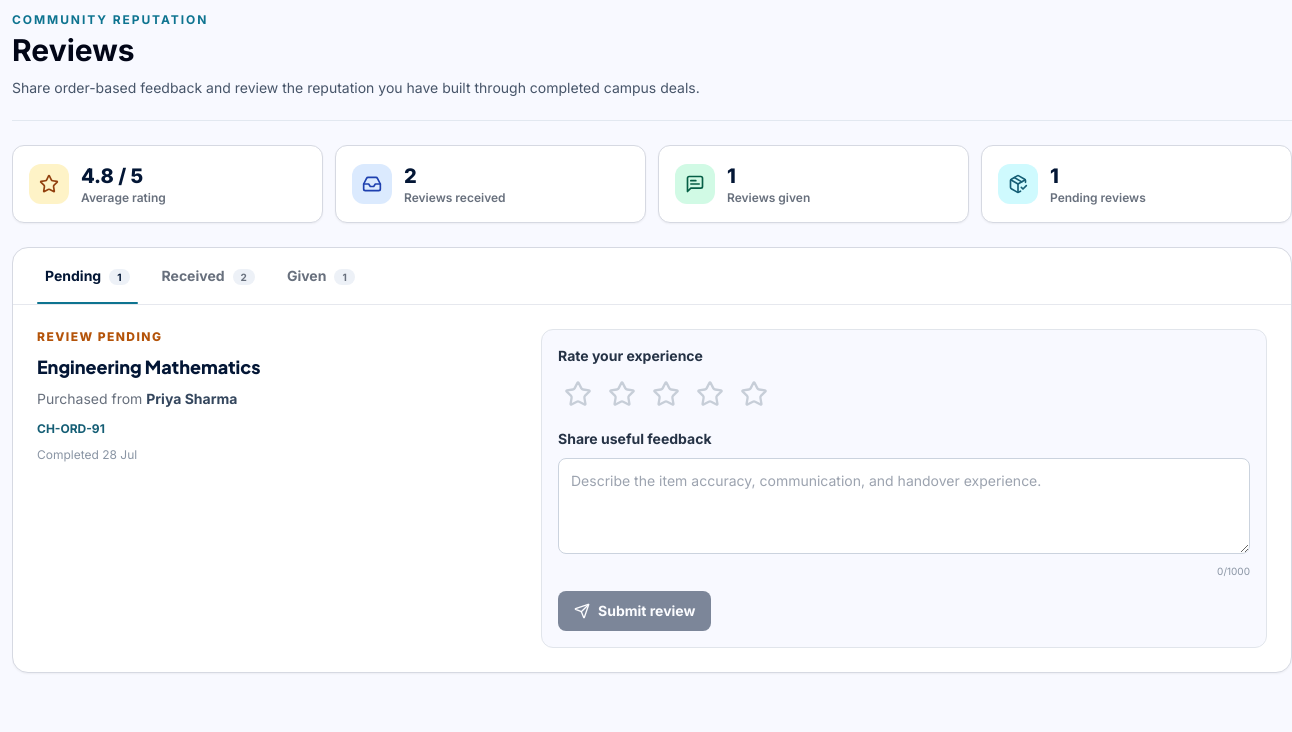
Test: ReviewsPage › submits feedback only for a completed order and refreshes the workspace
Expected: the heading "Reviews" is shown, [12, 32, 135, 68]
Expected: the link "Engineering Mathematics" is shown, [37, 355, 260, 378]
Click the button named "5 stars". click: coordinates (754, 394)
box: [734, 374, 774, 414]
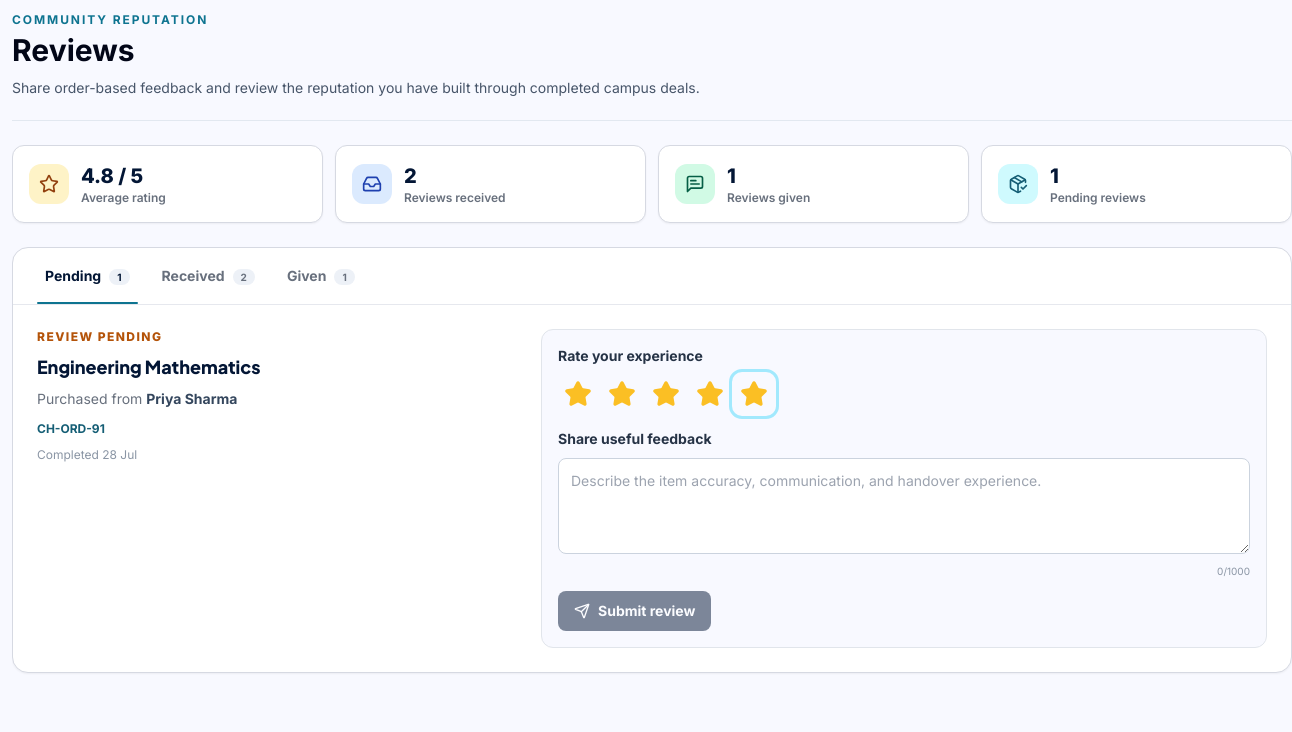
Type "The description was accurate and pickup was easy." into the text box with placeholder "item accuracy". click: coordinates (904, 506)
box: [558, 458, 1250, 554]
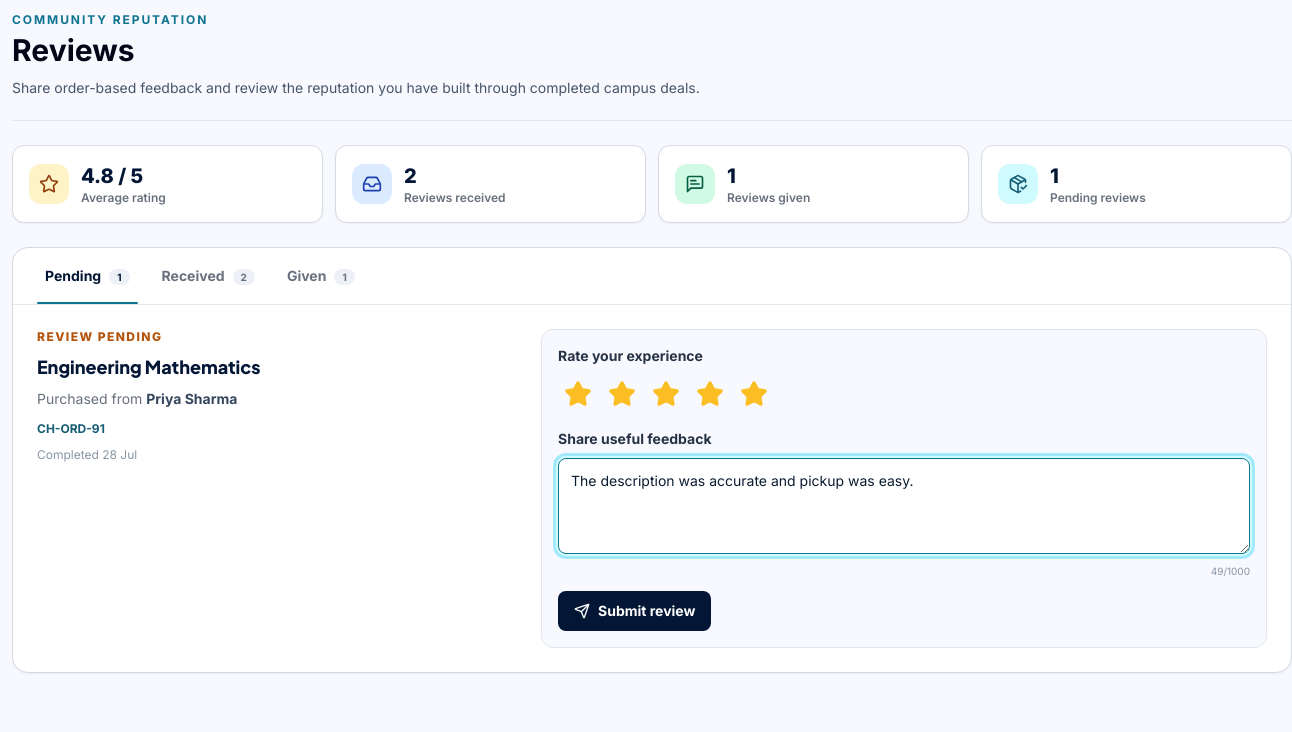
Click the button "Submit review". click: coordinates (635, 611)
box: [558, 591, 711, 631]
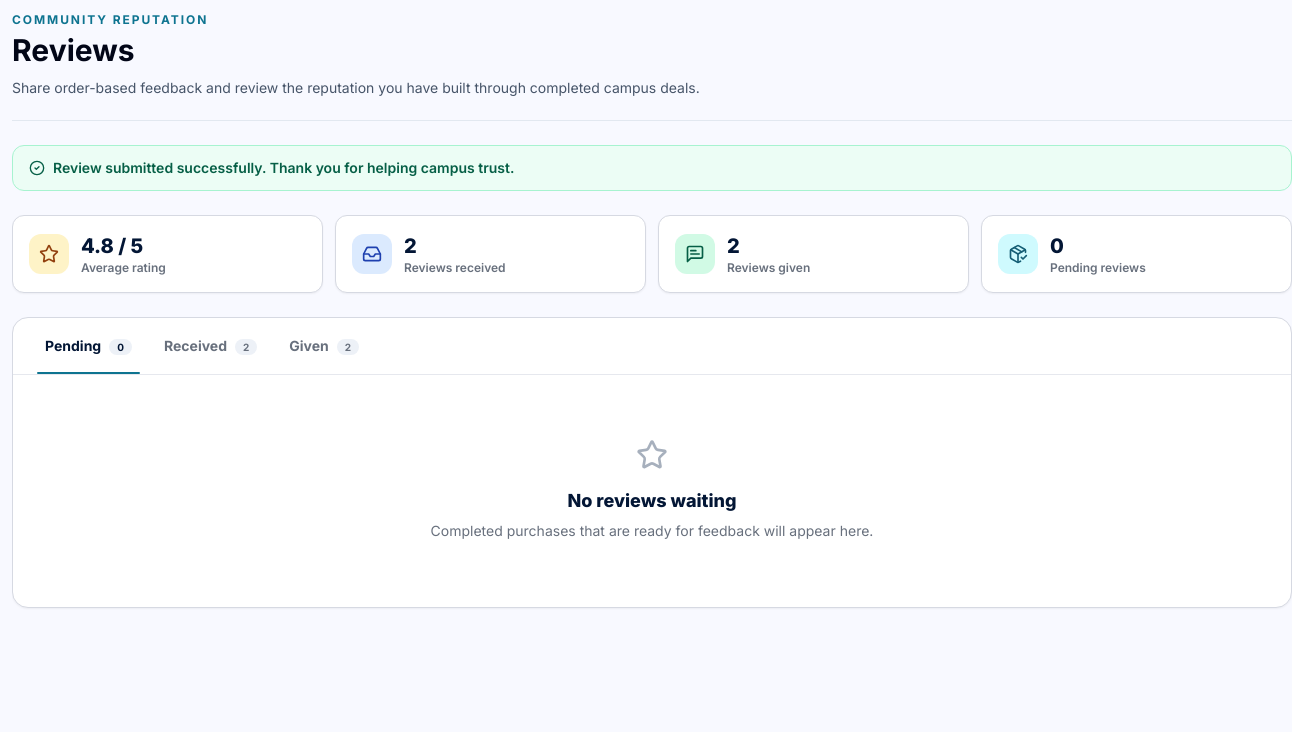
Expected: the text "Review submitted successfully. Thank you for helping campus trust." is shown, [12, 145, 1291, 191]
